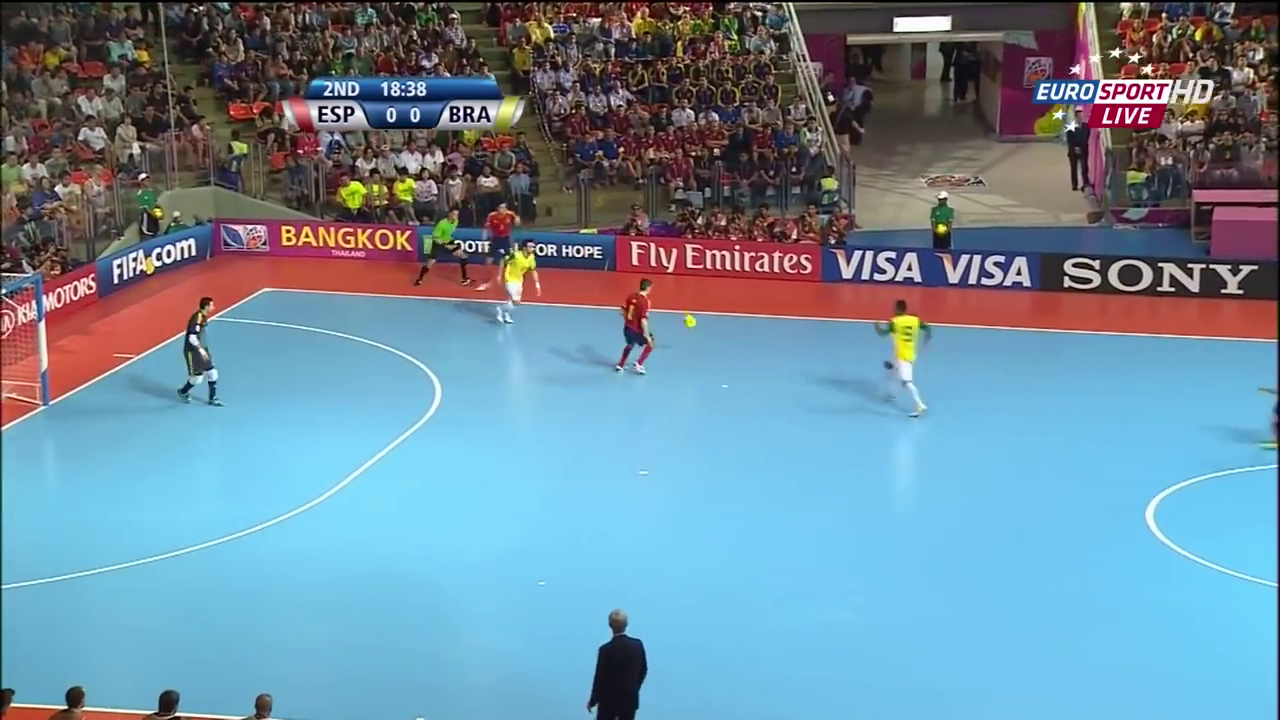ball: (678, 310, 700, 327)
person: (871, 291, 934, 420), (172, 289, 229, 407), (485, 238, 543, 327), (610, 267, 654, 375), (1261, 317, 1278, 451)
